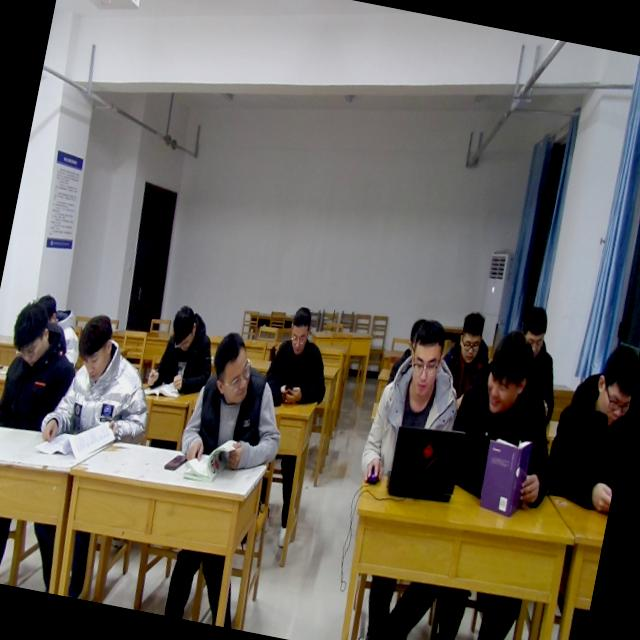down: (399, 312, 452, 404), (586, 336, 638, 427), (5, 295, 57, 370), (70, 306, 120, 384), (451, 306, 492, 368), (164, 298, 202, 354), (516, 304, 554, 353), (282, 302, 314, 357)
sit: (438, 320, 574, 520), (356, 309, 476, 501), (35, 305, 168, 467), (176, 322, 302, 479), (540, 330, 640, 518), (0, 290, 89, 443), (259, 298, 344, 417), (499, 302, 575, 428), (146, 299, 223, 398), (432, 303, 500, 415)
